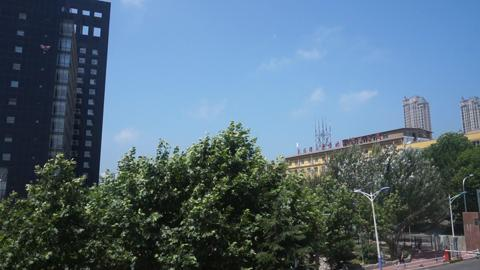UAV: (40, 45, 52, 51)
